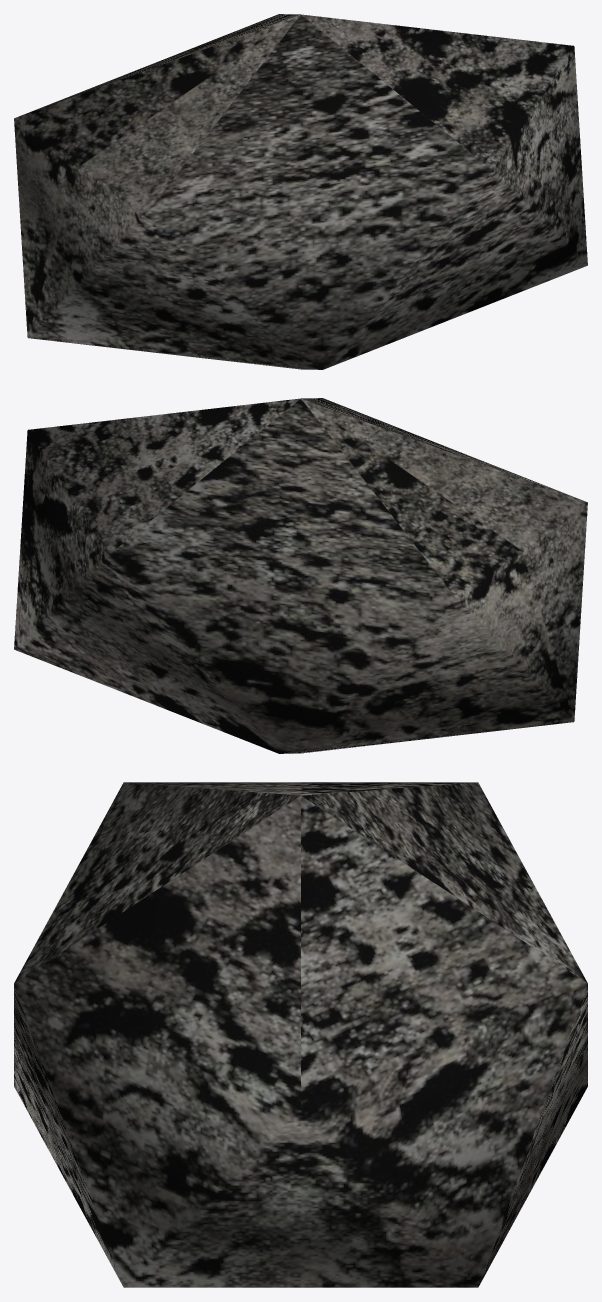
File: Stone.FBX
3 renders of one model, top to bottom at view 1: azimuth 30°, elevation 25°; view 2: azimuth 150°, elevation 25°; view 3: azimuth 270°, elevation 25°, orthographic. The views are drawn at different scales.
Parts seen in each view (by area): view 1: GeoSphere001; view 2: GeoSphere001; view 3: GeoSphere001.
Boxes of the visible parts, box(x1,y1,x2,y2) form: GeoSphere001: box(14, 14, 587, 369); GeoSphere001: box(14, 398, 587, 753); GeoSphere001: box(14, 782, 587, 1287).
Size of the model in its own units: 59.81 by 37.1 by 40.32.
1 material, 1 textured.
